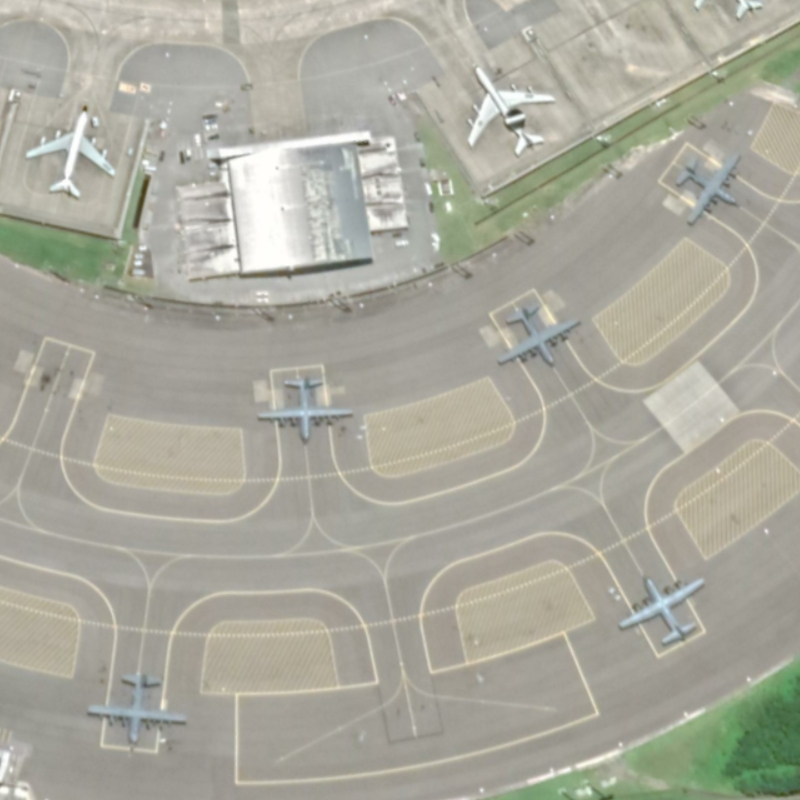A11: (22, 100, 121, 206)
A2: (610, 564, 711, 655), (82, 668, 192, 751), (250, 371, 360, 452), (486, 300, 583, 375), (665, 144, 750, 228)
A7: (460, 56, 560, 161)
